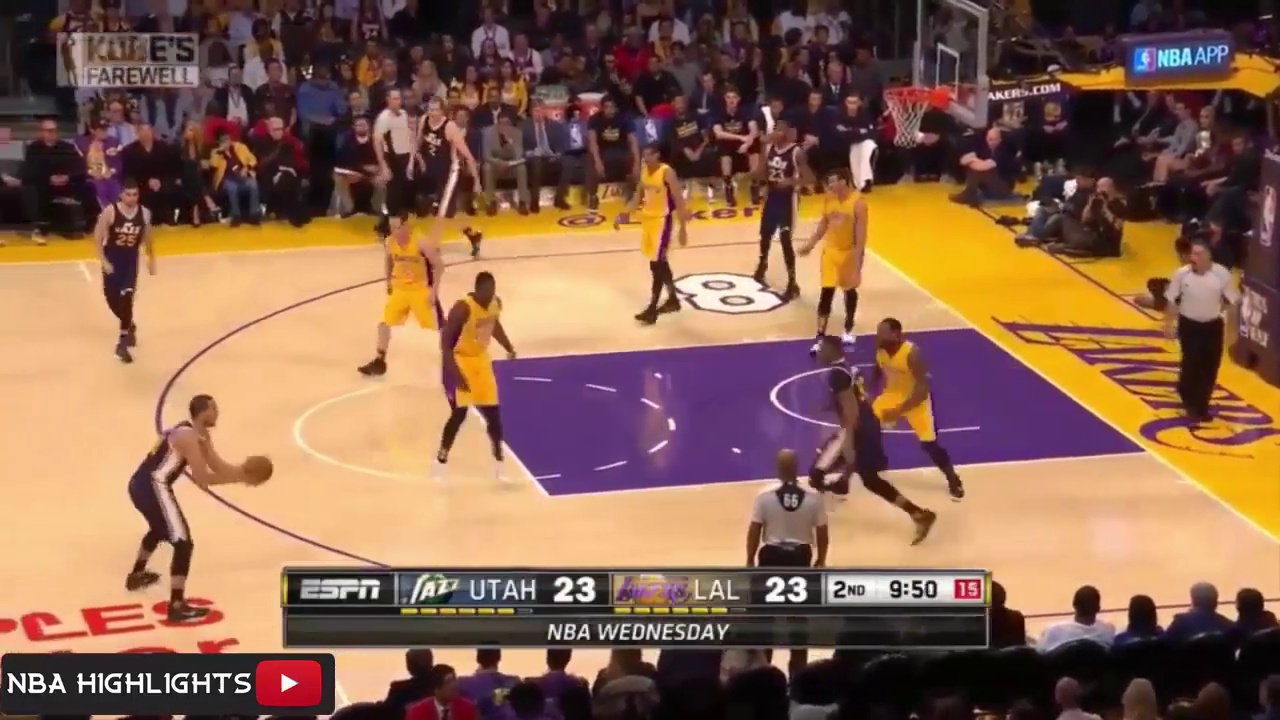jazz: (135, 393, 262, 606), (806, 344, 939, 536), (87, 178, 166, 366), (746, 123, 826, 293), (411, 100, 485, 260)
lakers: (429, 274, 533, 489), (856, 326, 967, 492), (369, 204, 452, 381), (619, 136, 691, 318), (805, 170, 868, 350)
